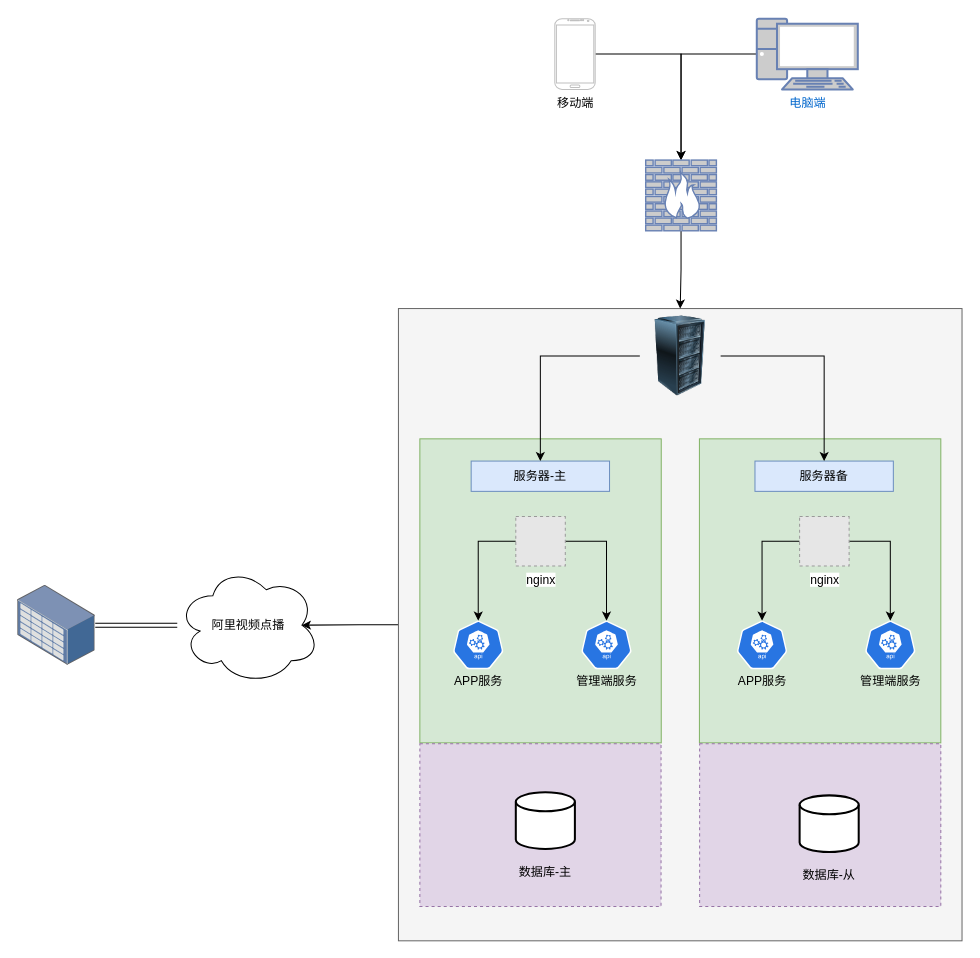
This 980x958 diagram has some shape labels left out. Grey dashed boxes stand in for pictures. The box of each missing label's shape, as (x1, y1, x2, y2) in pixels:
服务负载服务器&Redis: (639, 315, 720, 396)
防火墙: (644, 159, 717, 231)
阿里OSS: (17, 585, 95, 665)
